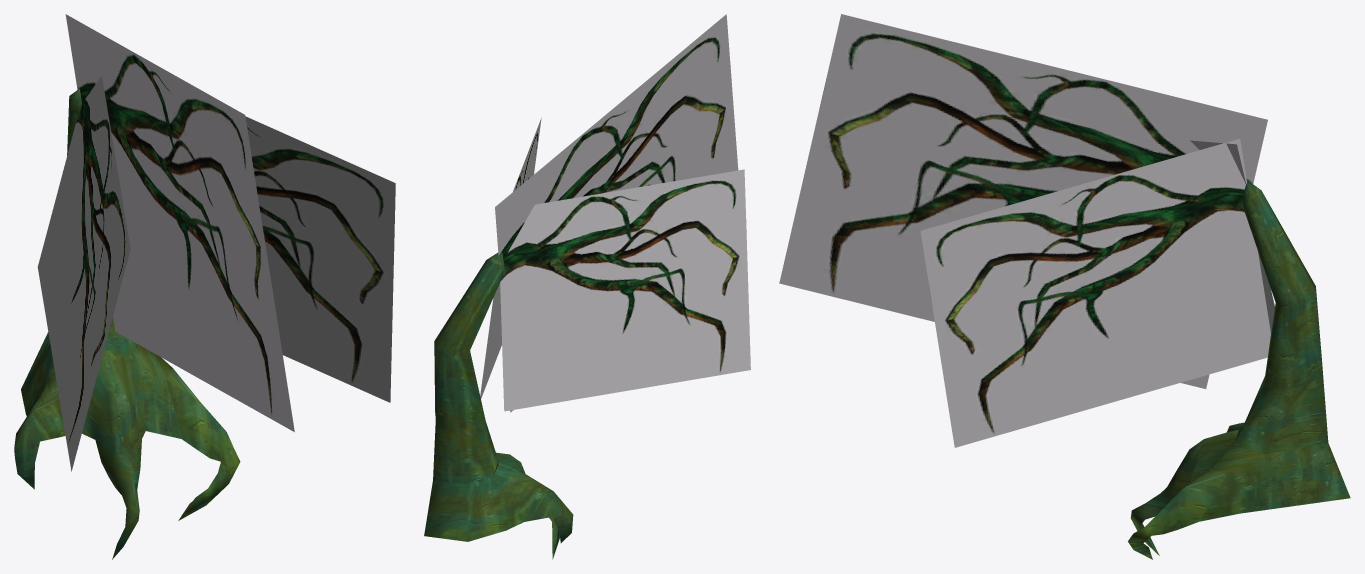
Rendered from INST_MIRK_TREE_SCARYD.fbx.
The picture shows the model from 3 angles, left to right: view 1: azimuth 30°, elevation 25°; view 2: azimuth 150°, elevation 25°; view 3: azimuth 270°, elevation 25°; orthographic projection. The views are drawn at different scales.
Visible parts, largest first — view 1: INST_MIRK_TREE_SCARYD; view 2: INST_MIRK_TREE_SCARYD; view 3: INST_MIRK_TREE_SCARYD.
Boxes of the visible parts, <box> form: INST_MIRK_TREE_SCARYD: <box>14,14,395,559</box>; INST_MIRK_TREE_SCARYD: <box>424,14,750,559</box>; INST_MIRK_TREE_SCARYD: <box>779,14,1350,559</box>.
Bounding box in the file's own units: 62324 × 112294 × 111274.
Materials: 2 (2 with a texture image).
